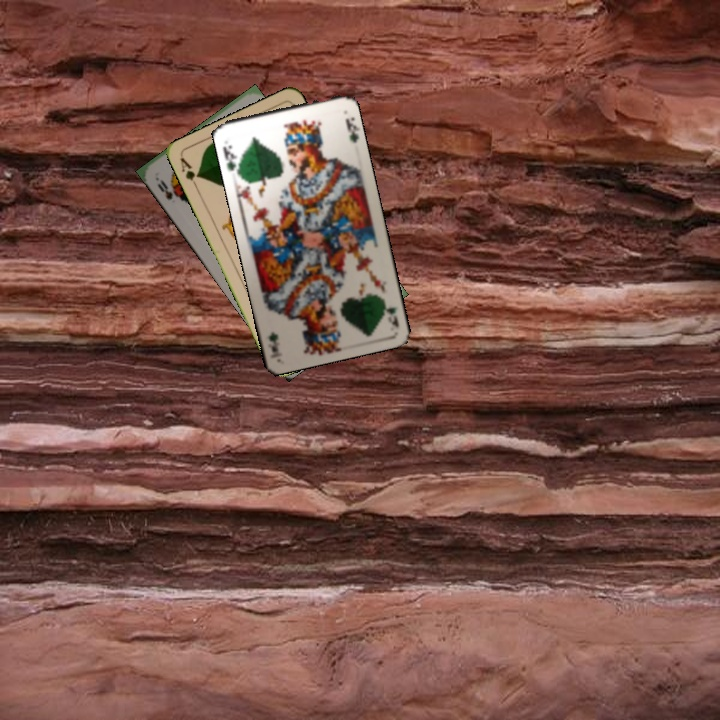GA: (176, 154, 202, 192)
GK: (377, 292, 402, 330), (219, 141, 242, 174)
SO: (153, 175, 175, 202)
